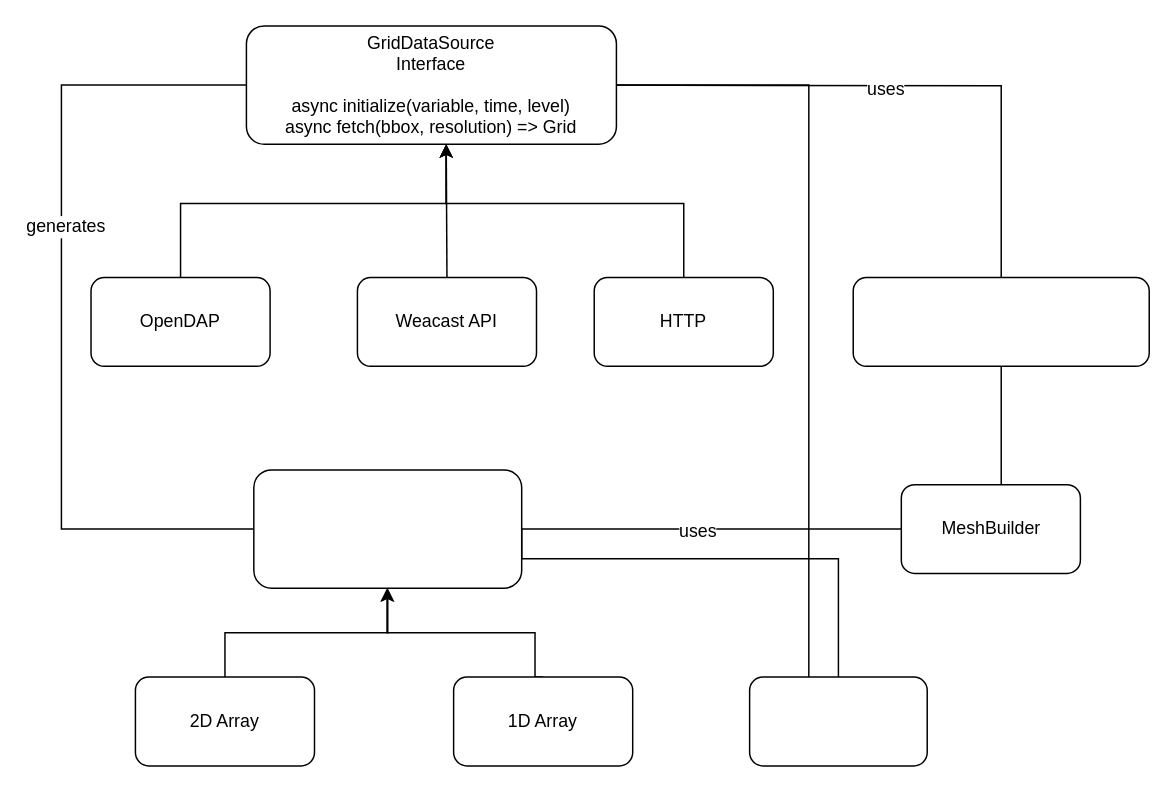
Image size: 1175x792. Some labels were removed from this diagram. The centre of each missing label's shape, as x and y in pixels:
Grid Interface getValue(lat, lon) getValue(i, j): the point at 387,528
TiledFlowLayer: the point at 837,721
TiledMeshLayer: the point at 1000,321
